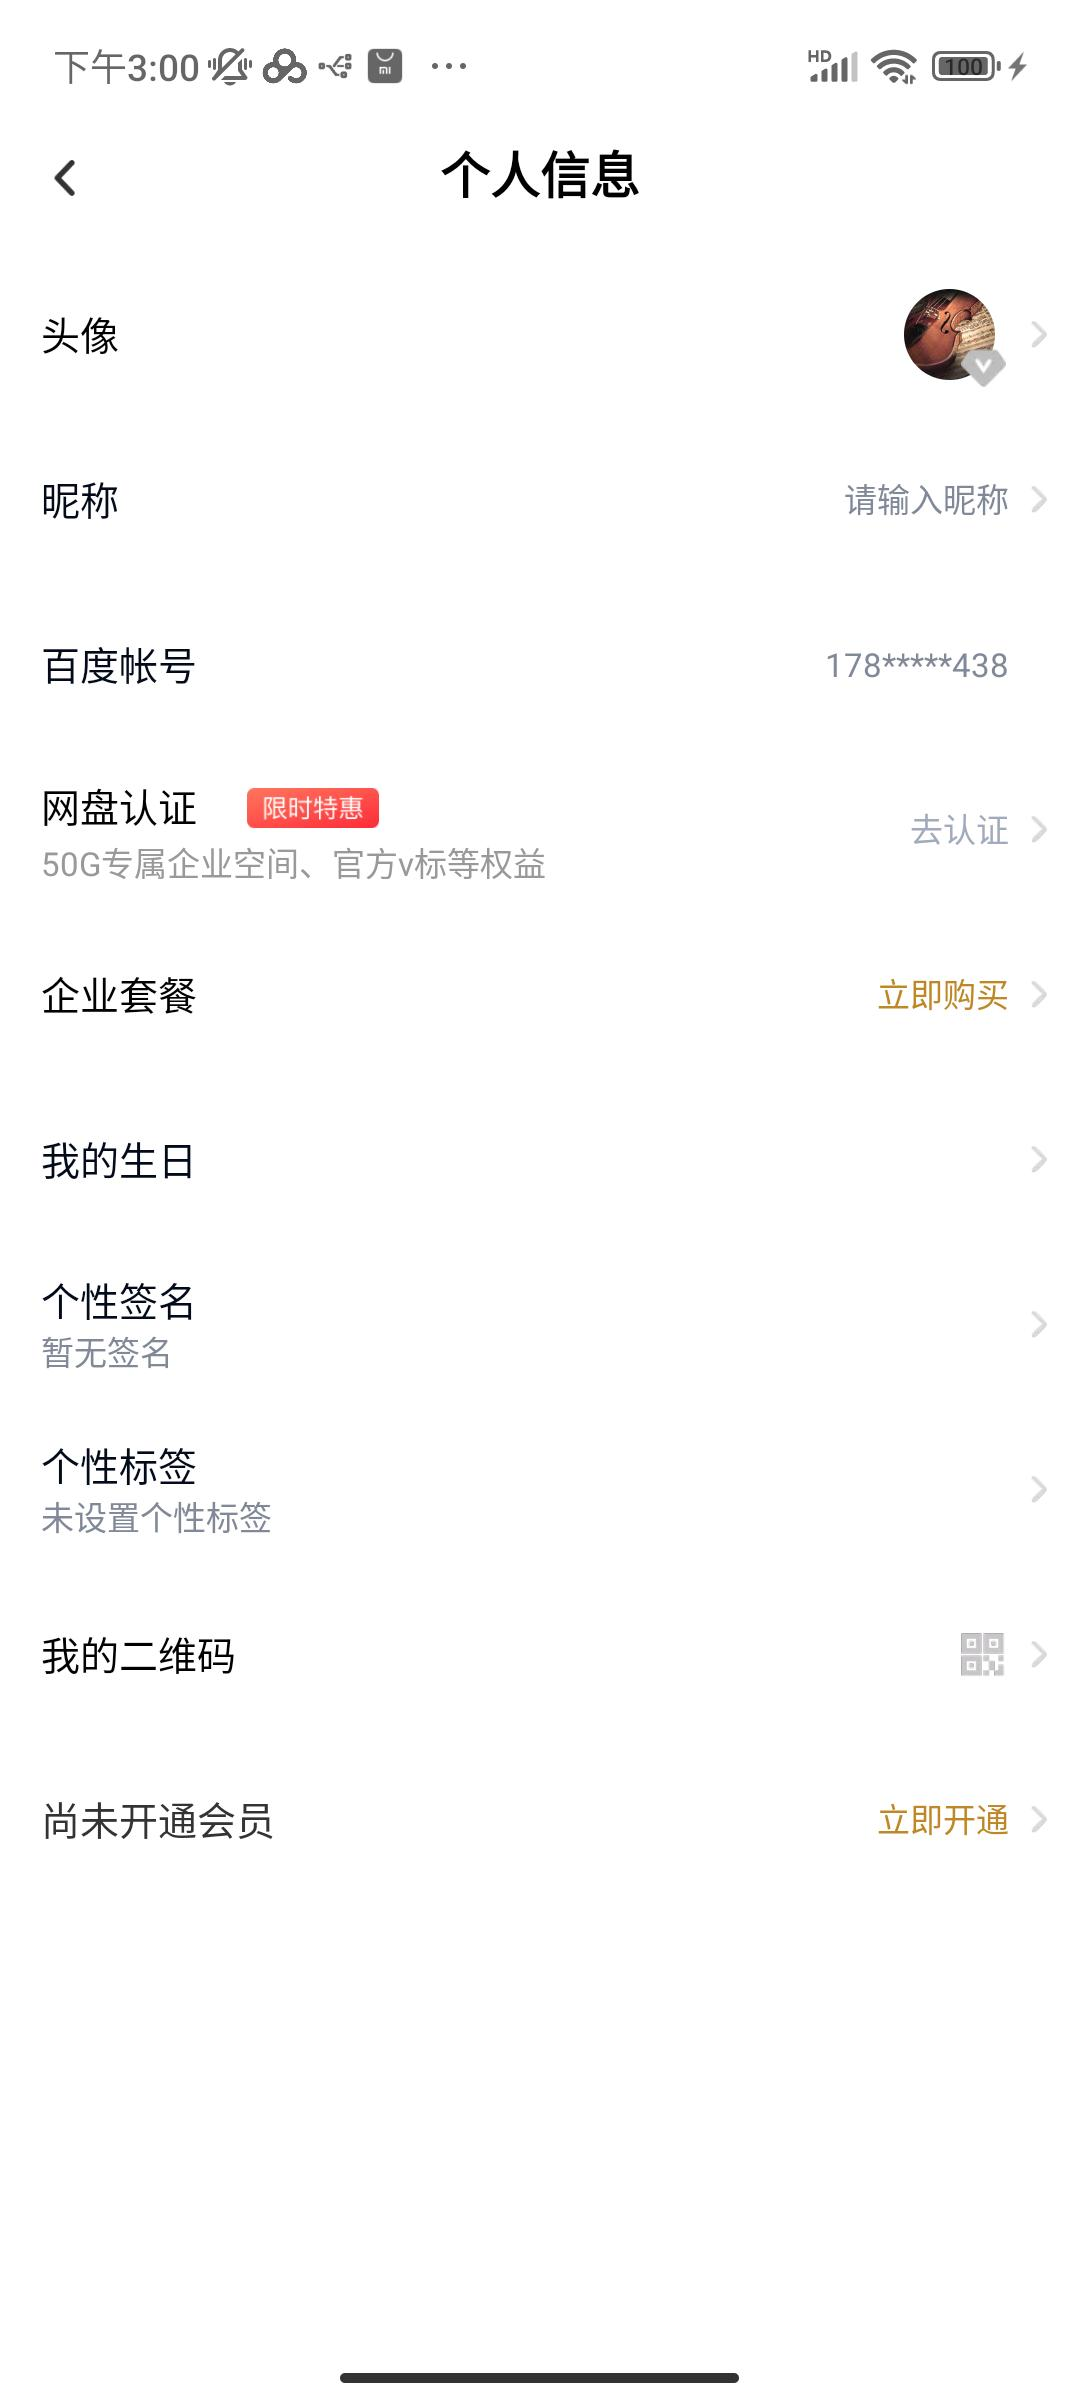ui_group: (2, 747, 1080, 923), (2, 1746, 1080, 1903), (5, 429, 1080, 569), (2, 923, 1080, 1059)
